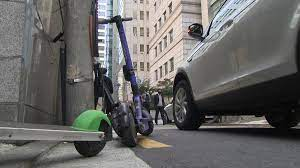kick_body: (2, 123, 76, 140)
kick_handler: (98, 15, 132, 25)
kick_neck: (117, 28, 137, 90)
kick_wheel: (74, 110, 108, 156), (134, 109, 153, 135)
